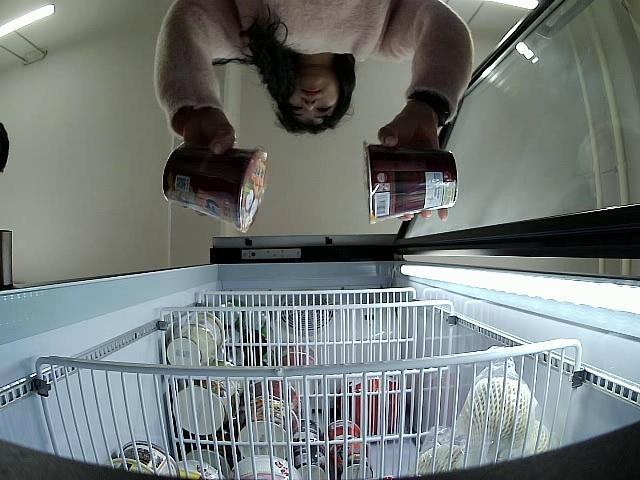06_nuguri_S: (160, 139, 270, 235), (362, 139, 458, 222)
